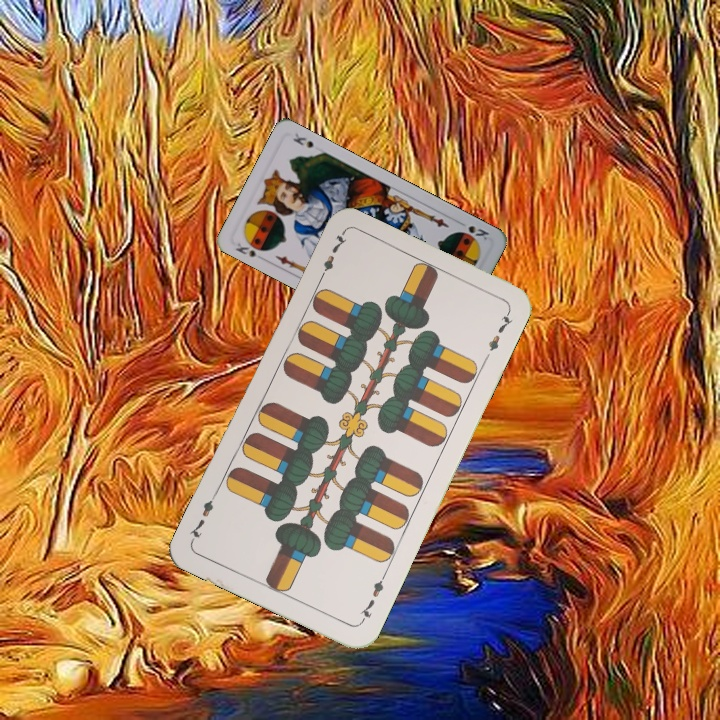E7: (314, 230, 350, 285), (355, 570, 389, 626)
SK: (231, 237, 269, 263), (464, 221, 492, 243)
